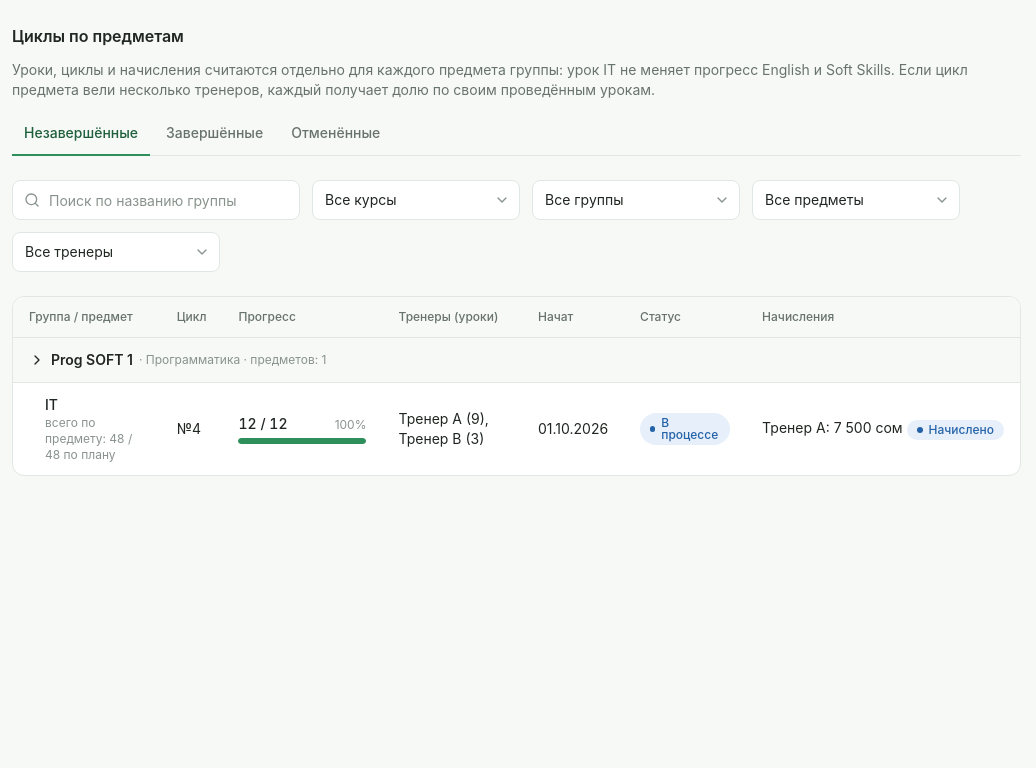
Test: SubjectCyclesSection › shows per-trainer shares of a completed subject cycle and an empty state
The width and height of the screenshot is (1036, 768).
Expected: the text "Тренер A (9), Тренер B (3)" is shown, [382,382,522,475]
Click the button "Prog SOFT 1 · Программатика · предметов: 1" at [178, 360], box [29,350,326,370]
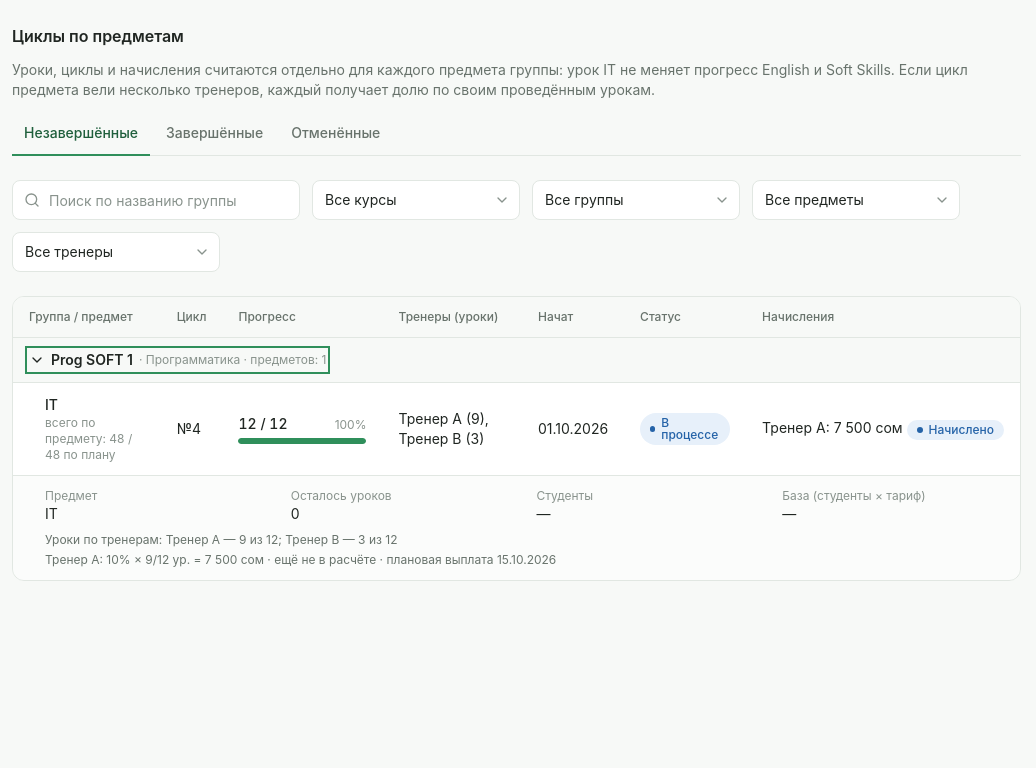
Click the tab "Отменённые" at [336, 134], box [279,112,392,156]
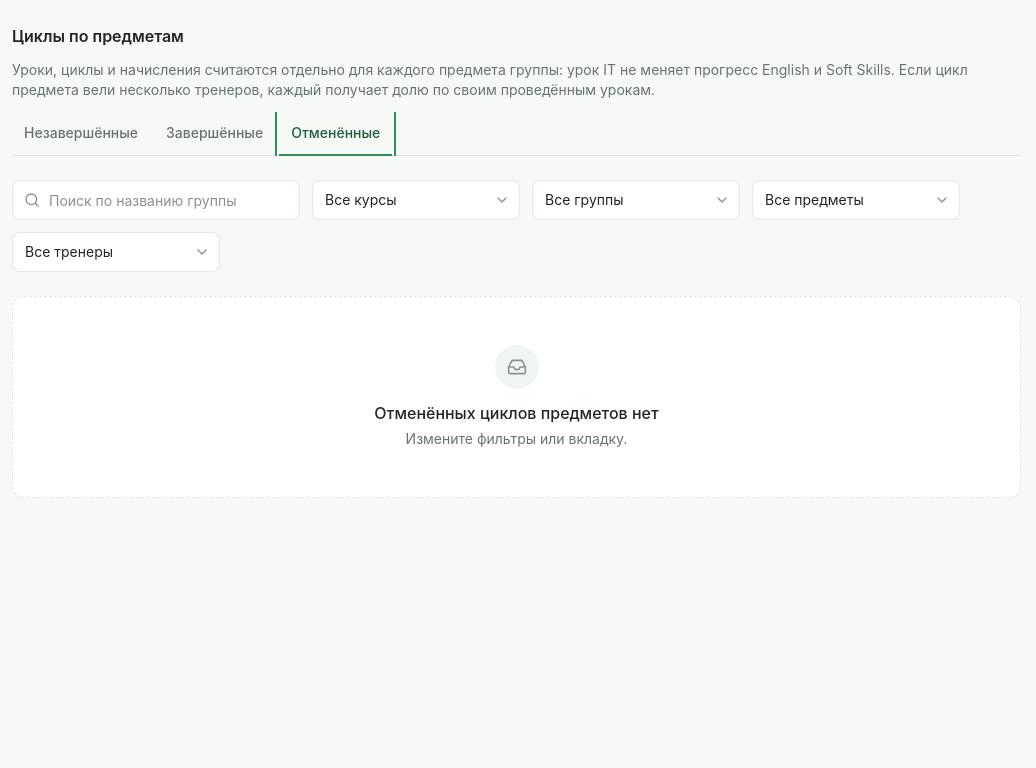
Result: the text "Отменённых циклов предметов нет" is shown at [374,401,659,425]
